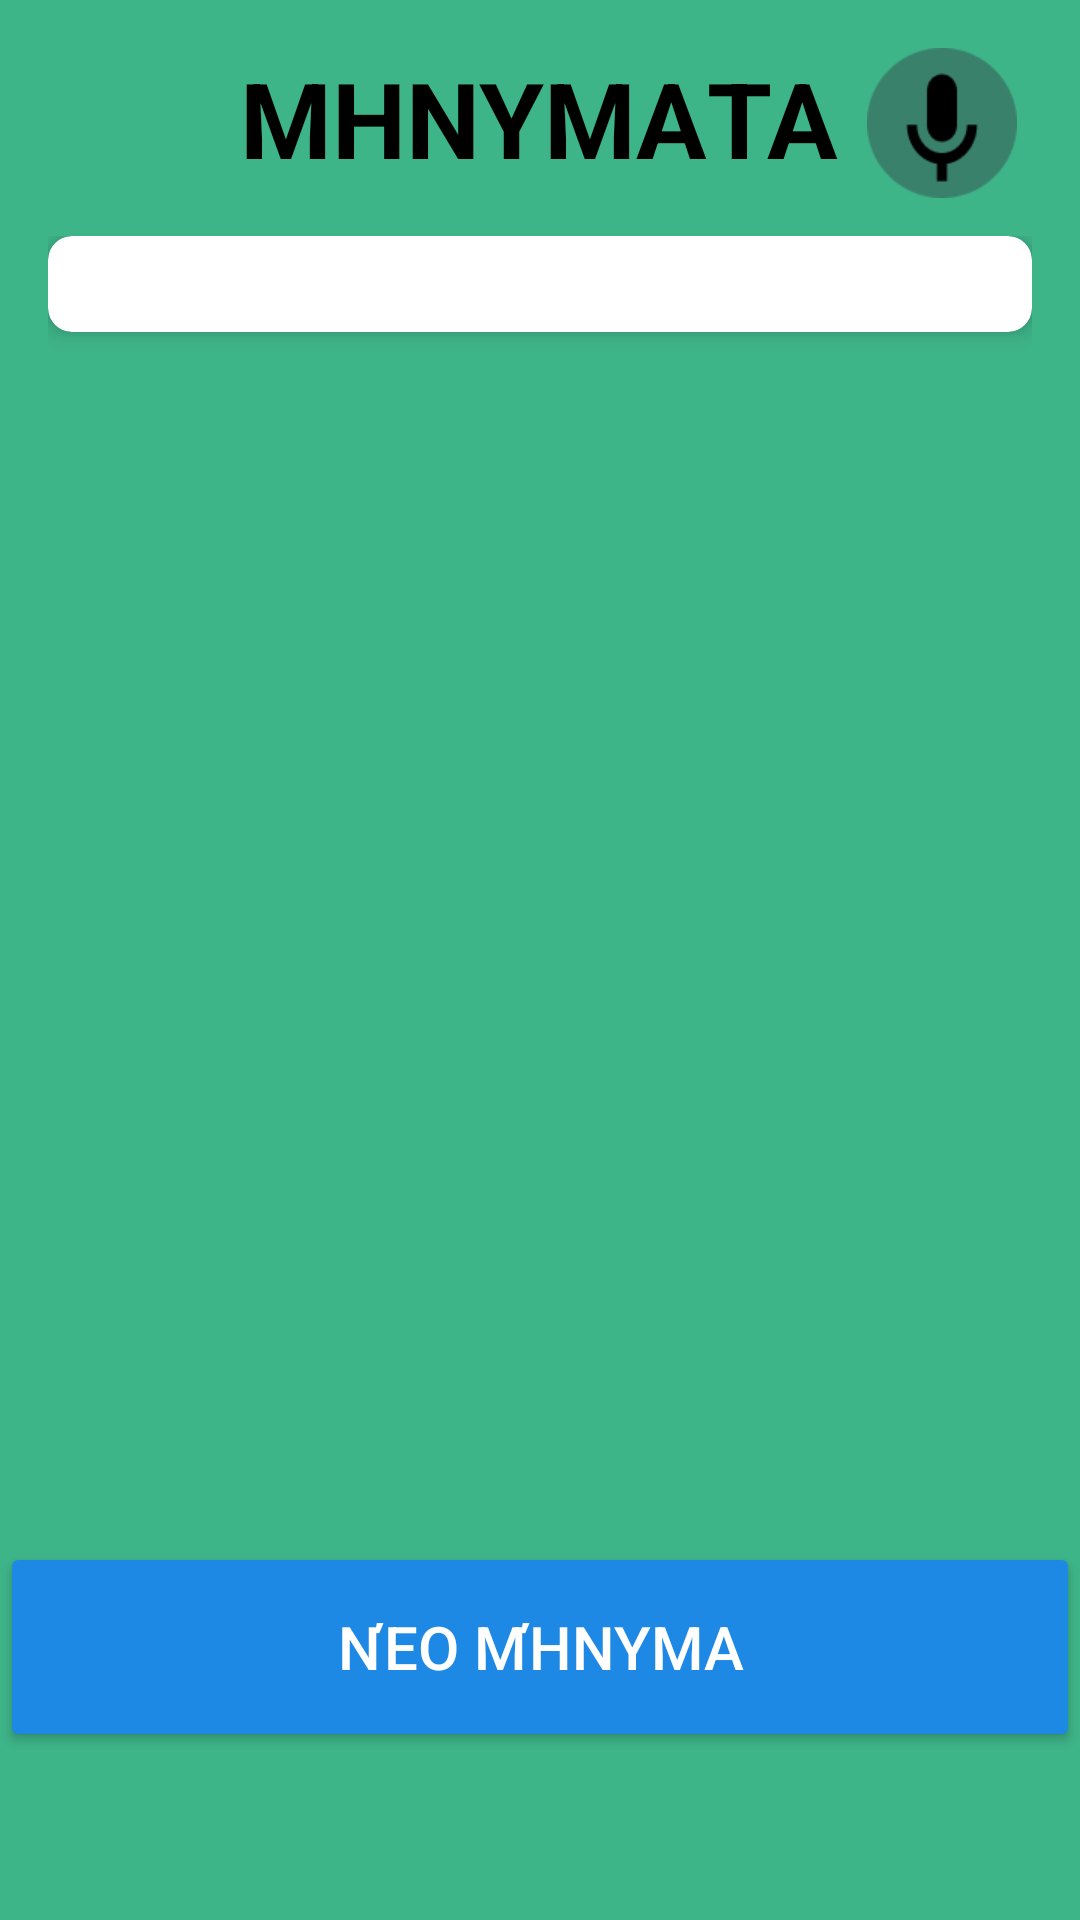

Screen size 1080w x 1920h. Icon name, then its box in pixels as detection(x1, y1, x2, y2):
Μικρόφωνο: detection(867, 48, 1017, 198)
